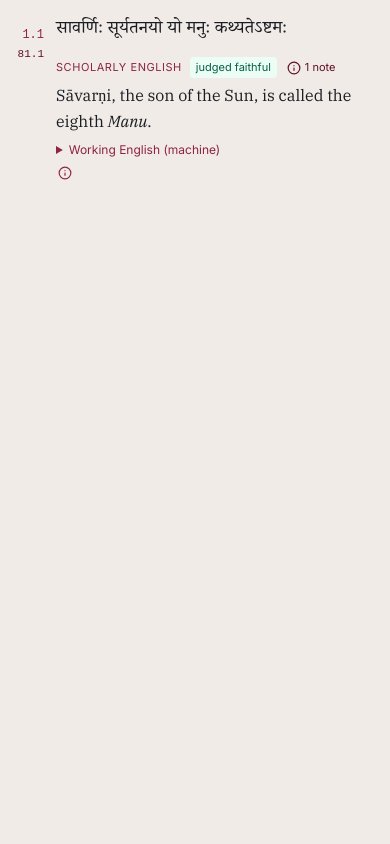
Test: the passage block › the scholarly English first, the working English folded under it
The image size is (390, 844).
Expected: the text "Scholarly English" is shown, [56,59,182,76]
Expected: the text "judged faithful" is shown, [190,57,277,78]
Click the button with aria-label "About the scholarly English". click: (311, 68)
box: [285,59,337,76]
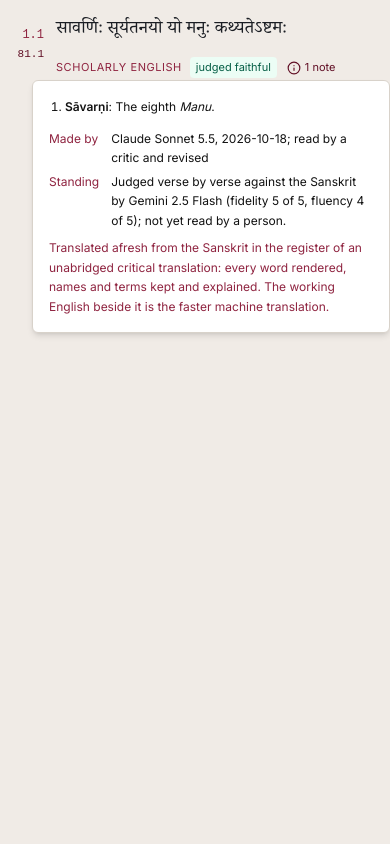
Expected: the text "1 note" is shown, [305,59,335,76]
Now the text "Claude Sonnet 5.5, 2026-10-18; read by a critic and revised" is shown, box [111,128,373,168]
